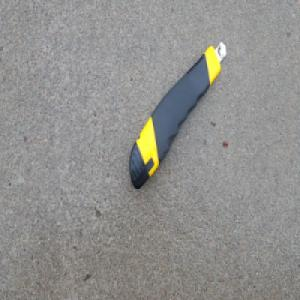Cutter: (127, 39, 225, 191)
